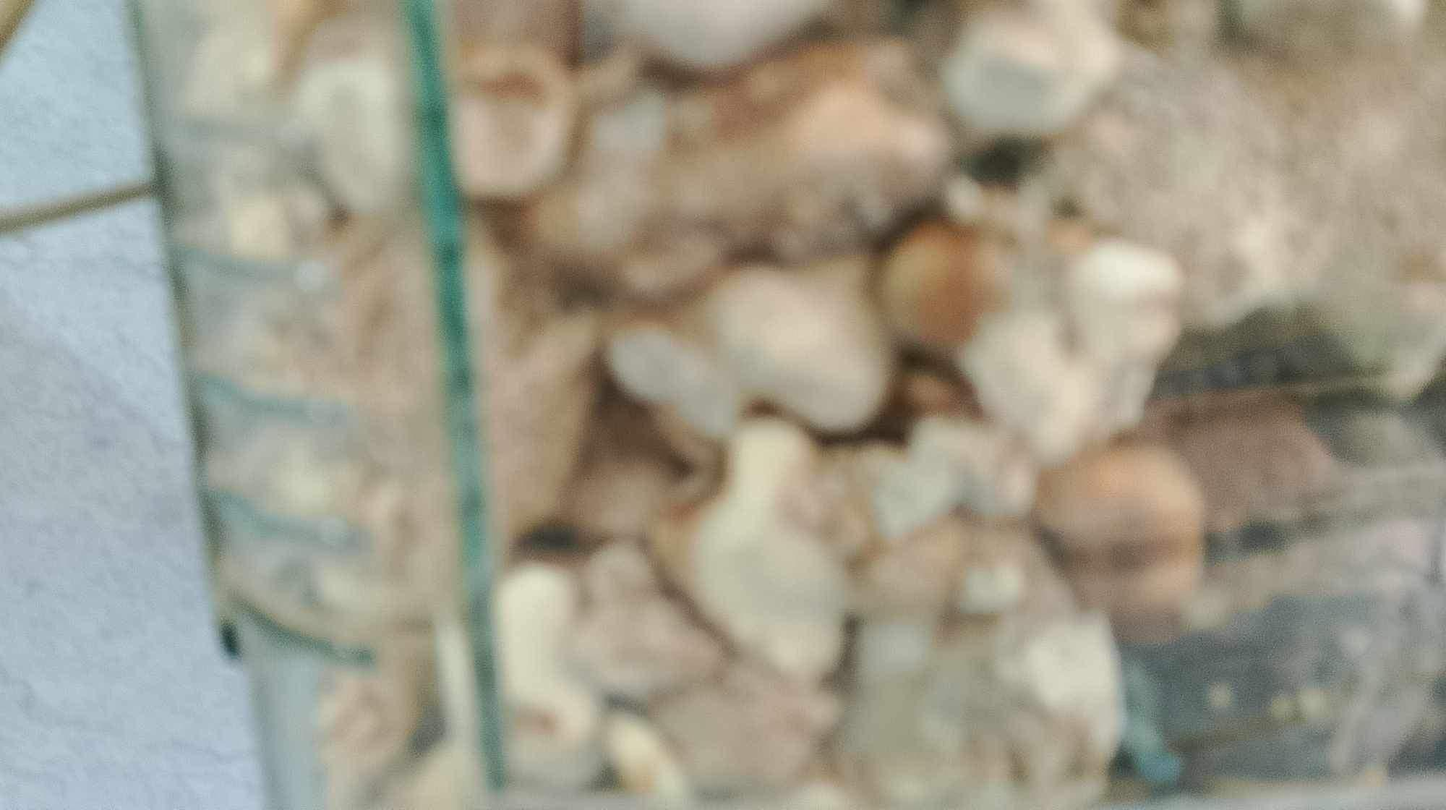General: (129, 4, 1438, 804)
Sharps: (394, 2, 514, 801)
